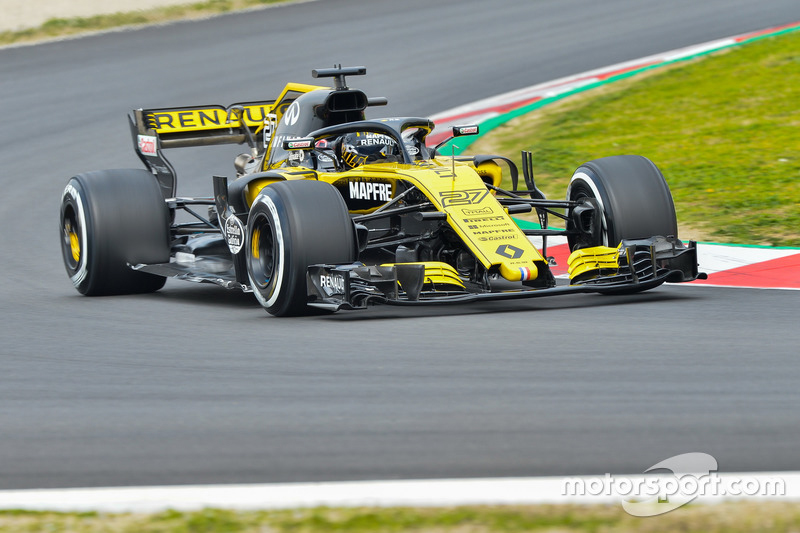F1 Car: (56, 56, 712, 323)
